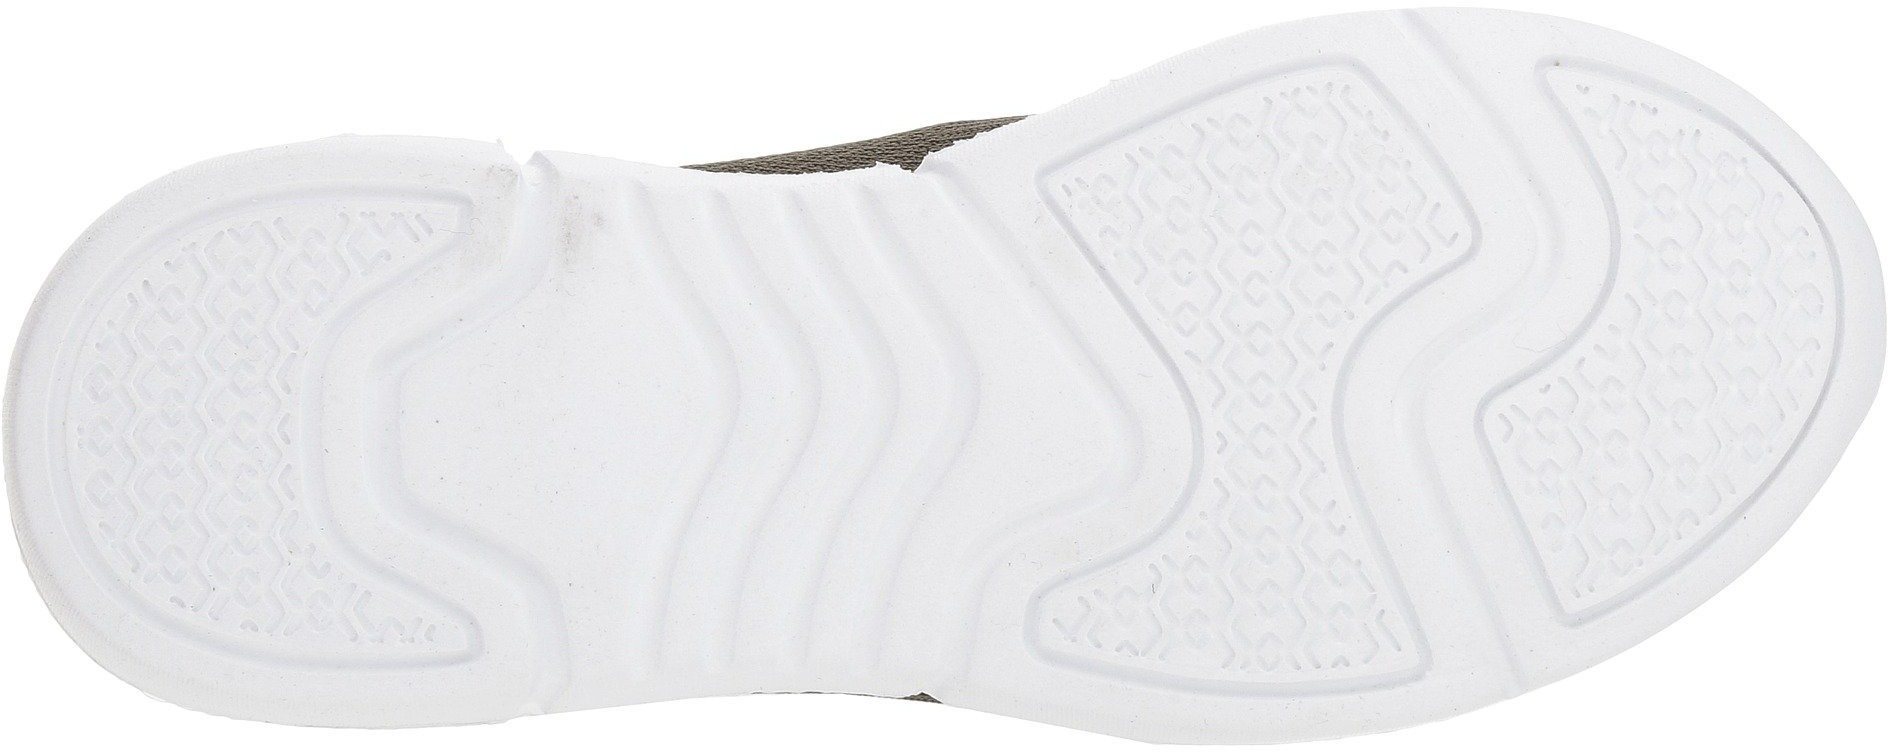bowtie: (1147, 134, 1397, 368), (1611, 232, 1817, 455), (104, 314, 291, 528), (1172, 509, 1356, 687), (1208, 375, 1334, 507)
chevron: (641, 211, 974, 476), (1147, 134, 1397, 368), (1611, 232, 1817, 455), (104, 314, 291, 528), (1172, 509, 1356, 687), (1208, 375, 1334, 507)
quad: (1147, 134, 1397, 368), (1611, 232, 1817, 455), (104, 314, 291, 528), (1172, 509, 1356, 687), (1208, 375, 1334, 507)
